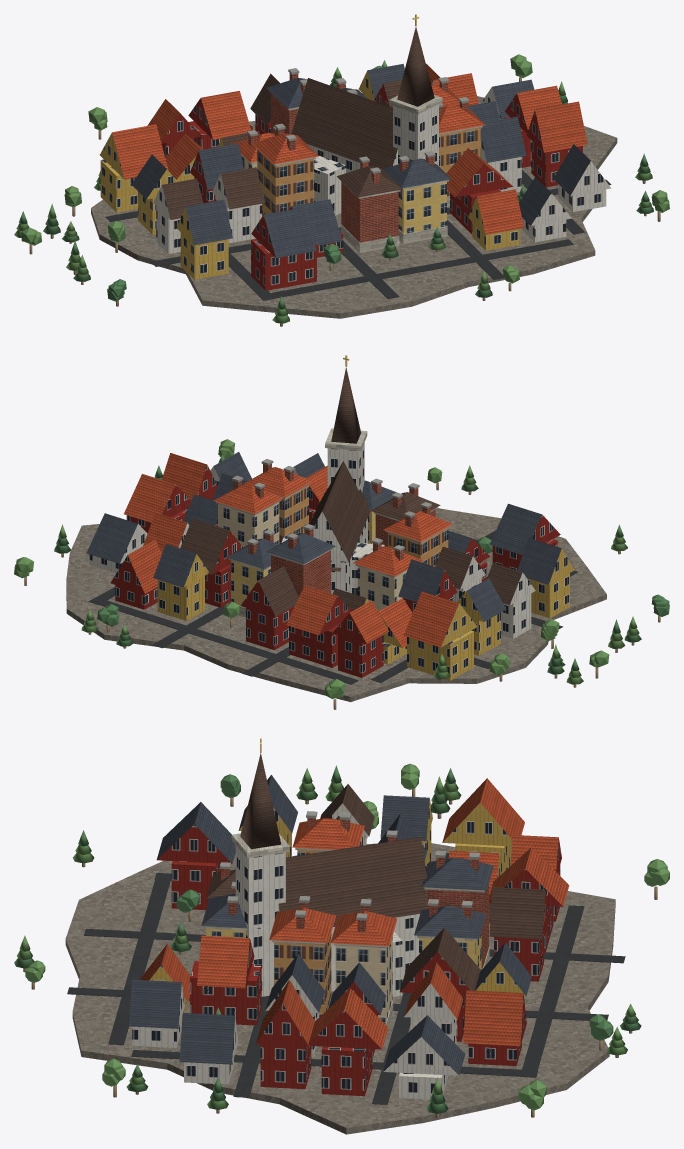
Rendered from city_nordic_medium.glb.
3 renders of one model, top to bottom at view 1: azimuth 30°, elevation 25°; view 2: azimuth 150°, elevation 25°; view 3: azimuth 270°, elevation 25°, orthographic. The views are drawn at different scales.
Parts seen in each view (by area): view 1: city_nordic_medium; view 2: city_nordic_medium; view 3: city_nordic_medium.
Boxes of the visible parts, x1,y1,x2,y2 form: city_nordic_medium: (14, 14, 669, 326); city_nordic_medium: (14, 355, 669, 709); city_nordic_medium: (14, 738, 669, 1134).
Size of the model in its own units: 3.53 by 1.26 by 2.92.
18 materials, 14 textured.
